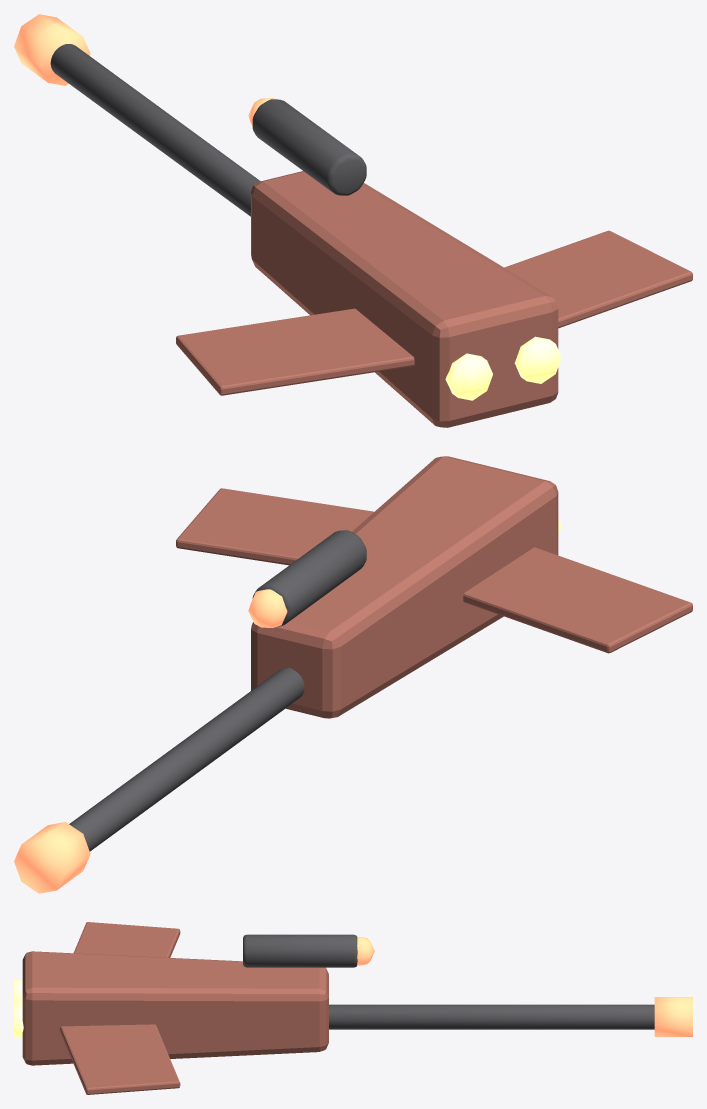
The model's file is scharfschuetze.glb.
3 renders of one model, top to bottom at view 1: azimuth 30°, elevation 25°; view 2: azimuth 150°, elevation 25°; view 3: azimuth 270°, elevation 25°, orthographic. The views are drawn at different scales.
Parts seen in each view (by area): view 1: Rumpf.004, Fluegel-1, Fluegel1, Lauf, Fernrohr, Muendung.001, Duese-1.004, Duese1.004; view 2: Rumpf.004, Fluegel-1, Lauf, Fluegel1, Fernrohr, Muendung.001, Auge.003; view 3: Rumpf.004, Lauf, Fluegel1, Fernrohr, Fluegel-1, Muendung.001, Auge.003, Duese1.004.
Part boxes in pixels (x1,y1,x2,y2): Rumpf.004: (251, 171, 558, 427); Fluegel-1: (176, 308, 414, 395); Fluegel1: (504, 230, 692, 328); Lauf: (50, 44, 260, 216); Fernrohr: (252, 99, 366, 195); Muendung.001: (14, 14, 90, 85); Duese-1.004: (445, 353, 492, 400); Duese1.004: (514, 336, 561, 383); Rumpf.004: (251, 456, 558, 718); Fluegel-1: (463, 547, 692, 653); Lauf: (69, 668, 304, 851); Fluegel1: (176, 488, 374, 565); Fernrohr: (252, 530, 366, 626); Muendung.001: (14, 822, 90, 893); Auge.003: (248, 589, 287, 627); Rumpf.004: (22, 951, 328, 1065); Lauf: (329, 1004, 654, 1029); Fluegel1: (60, 1024, 180, 1094); Fernrohr: (243, 934, 357, 967); Fluegel-1: (73, 922, 180, 957); Muendung.001: (654, 997, 692, 1036); Auge.003: (357, 937, 374, 965); Duese1.004: (14, 1004, 23, 1036).
Size of the model in its own units: 2.07 by 0.64 by 3.54.
